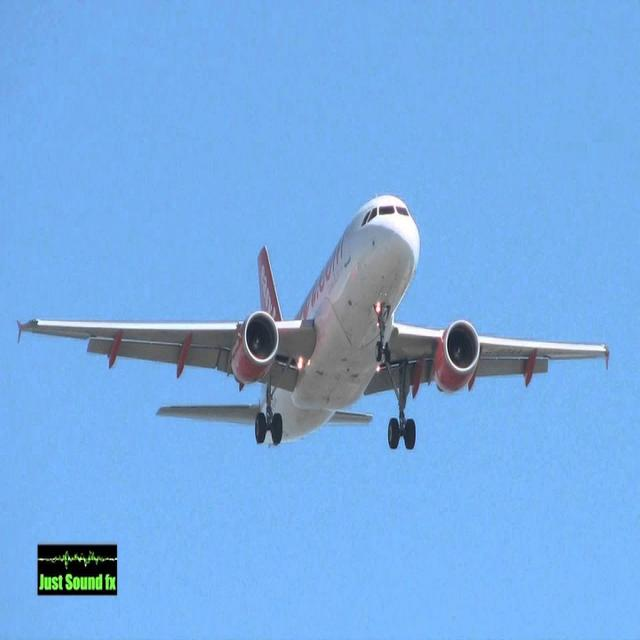plane: (16, 186, 614, 467)
